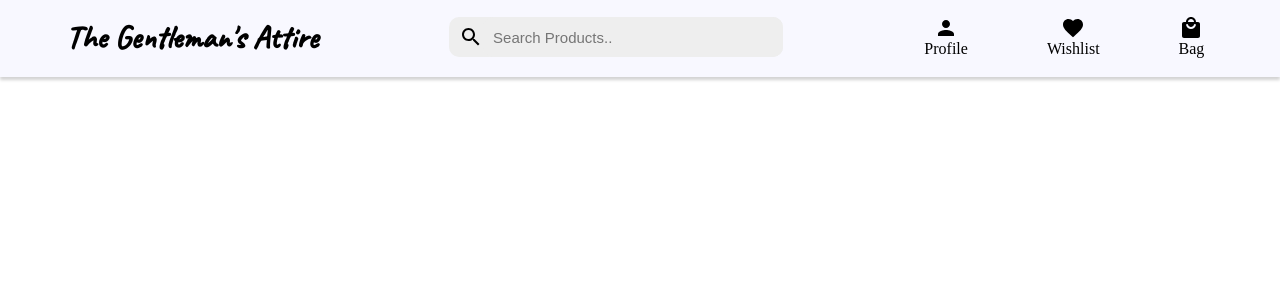
Scenario: NavigationBar › If the user is login than user login dropdown should display
Hover over the element with test id "profileIcon" at [946, 36], box top-left (924, 16), bottom-right (968, 57)
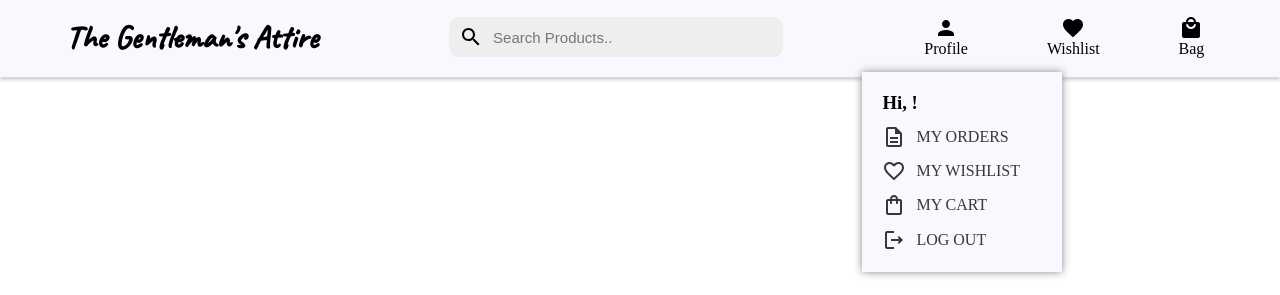
Check: the element with test id "loginProfileDropdown" is shown, box top-left (882, 92), bottom-right (1020, 252)
